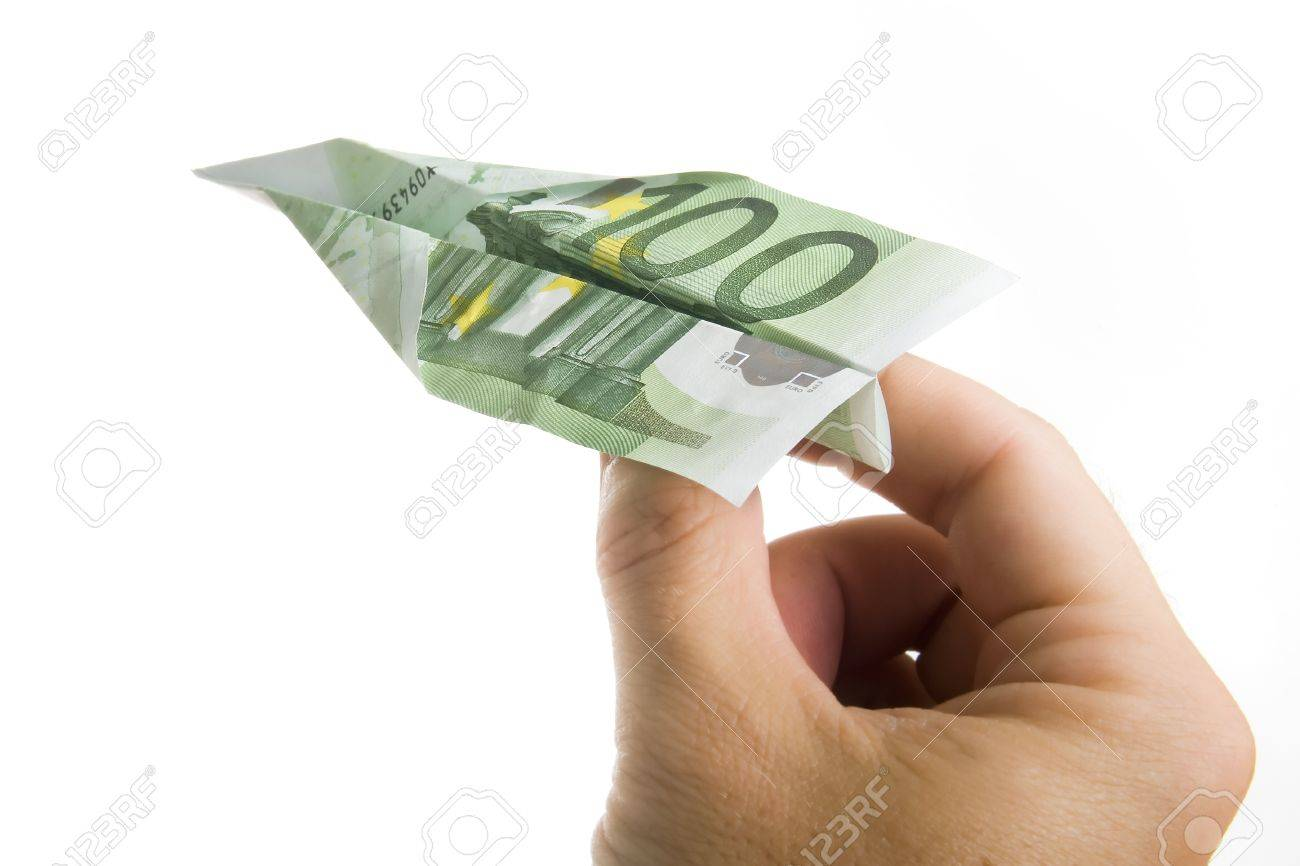billete: (189, 134, 1027, 505)
